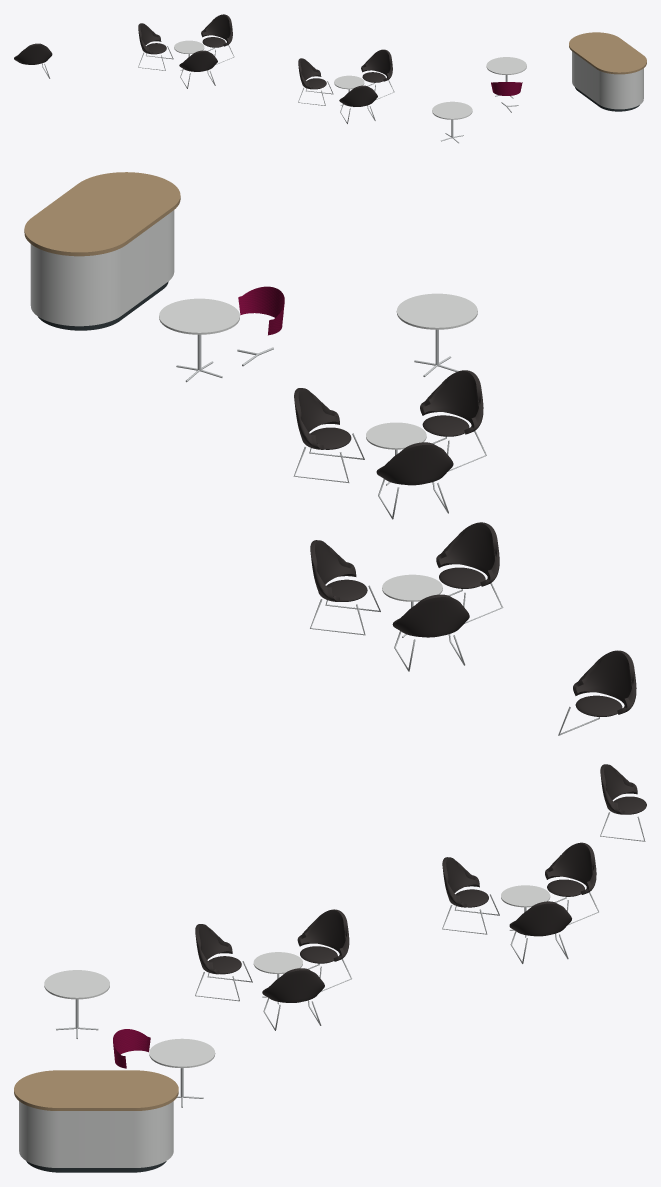
The model's file is SM_L2_Furniture_Solid_788bce91b1_3.fbx.
The picture shows the model from 3 angles, top to bottom: view 1: azimuth 30°, elevation 25°; view 2: azimuth 150°, elevation 25°; view 3: azimuth 270°, elevation 25°; orthographic projection. The views are drawn at different scales.
Visible parts, largest first — view 1: SM_L2_Furniture_Solid_788bce91b1_3; view 2: SM_L2_Furniture_Solid_788bce91b1_3; view 3: SM_L2_Furniture_Solid_788bce91b1_3.
Part boxes in pixels (box(x1,y1,x2,y2)): SM_L2_Furniture_Solid_788bce91b1_3: box(14, 14, 646, 143); SM_L2_Furniture_Solid_788bce91b1_3: box(24, 172, 636, 735); SM_L2_Furniture_Solid_788bce91b1_3: box(14, 764, 646, 1172).
Size of the model in its own units: 12.4 by 9.22 by 1.12.
